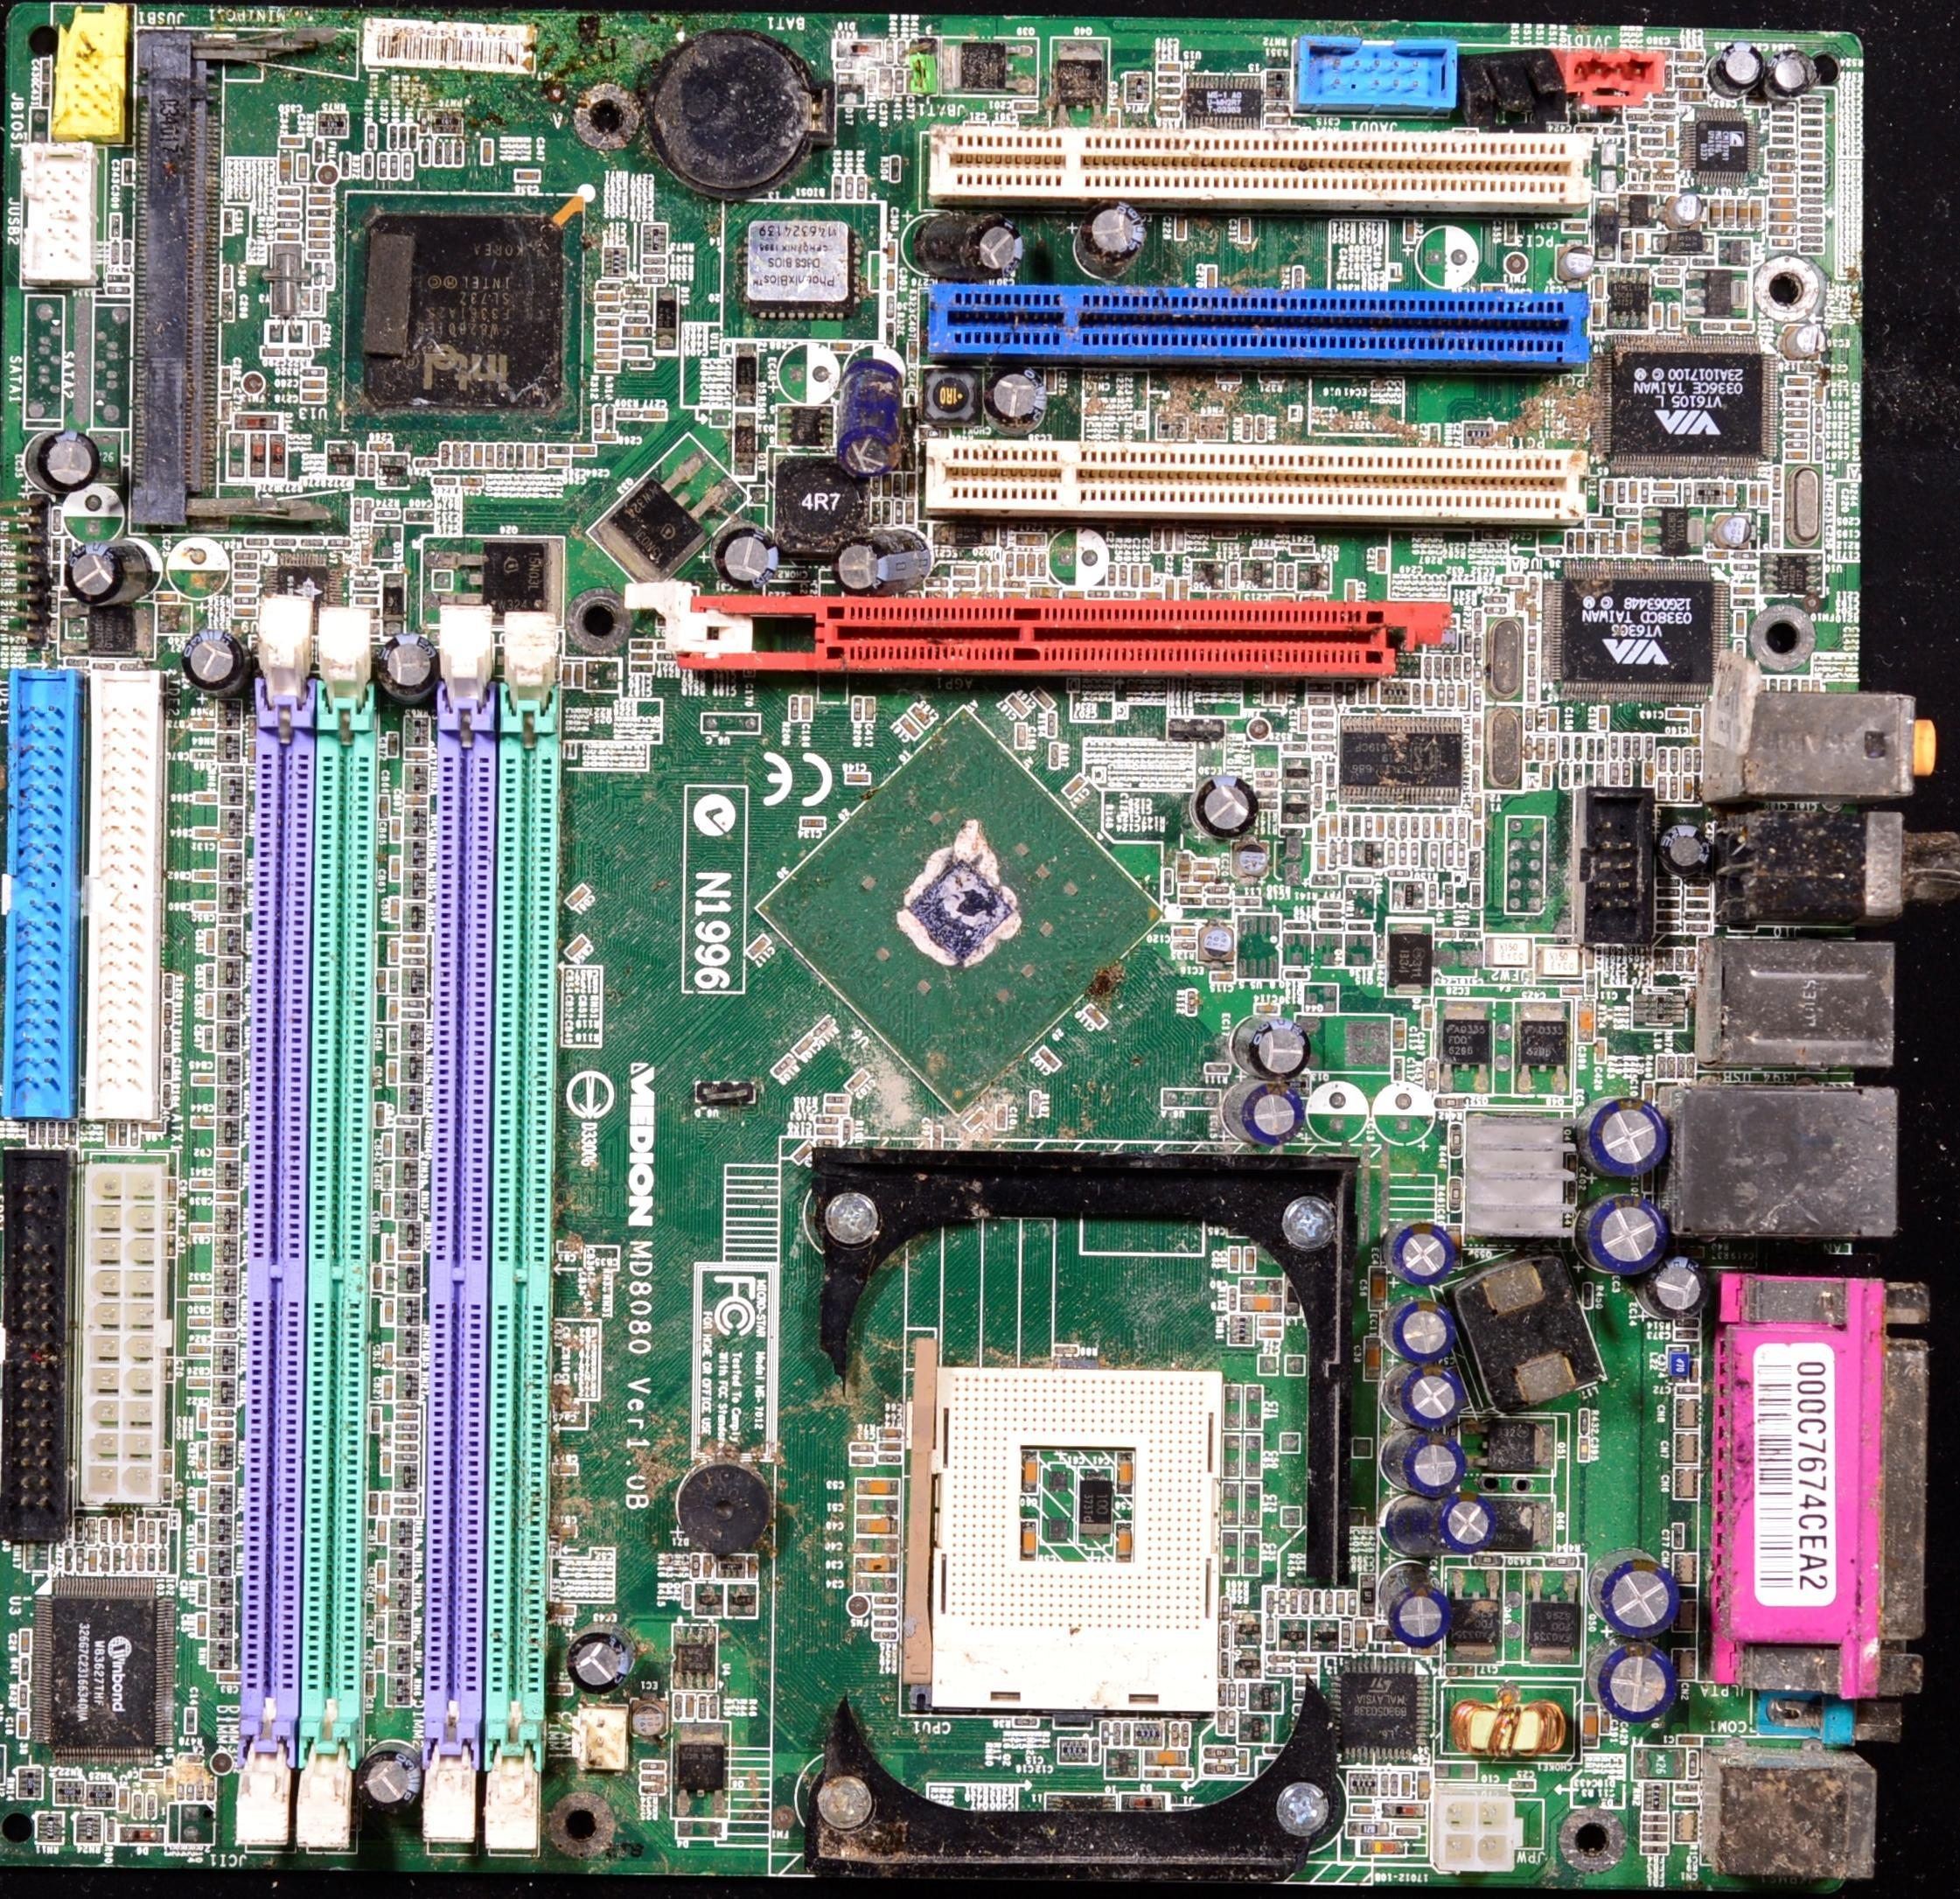Capacitor: (353, 1736, 436, 1829), (1591, 1640, 1676, 1724), (1589, 1188, 1668, 1279), (1076, 182, 1153, 271), (1603, 1559, 1685, 1640), (1589, 1101, 1673, 1178), (1381, 1215, 1458, 1295), (180, 621, 250, 704), (567, 1628, 642, 1701), (1382, 1577, 1458, 1645), (982, 366, 1060, 431), (1249, 1075, 1312, 1155), (30, 431, 103, 495), (964, 210, 1032, 278), (65, 543, 133, 611), (374, 628, 446, 691), (1398, 1432, 1472, 1493), (1440, 1496, 1505, 1565), (1389, 1304, 1454, 1369), (1253, 1019, 1316, 1085), (1643, 1257, 1710, 1316), (1400, 1369, 1461, 1432), (840, 539, 892, 613), (721, 523, 779, 588), (1199, 775, 1258, 833), (843, 424, 905, 480), (1769, 47, 1827, 100), (1710, 40, 1767, 91), (1664, 828, 1713, 877), (1197, 924, 1234, 964), (1232, 840, 1269, 875), (1237, 1292, 1286, 1314), (1115, 1453, 1136, 1496), (1011, 534, 1053, 555), (852, 1517, 899, 1535), (1022, 1454, 1043, 1493), (511, 168, 551, 187), (861, 1481, 899, 1500), (859, 1556, 899, 1573), (299, 375, 332, 394), (182, 1341, 213, 1360), (1118, 1524, 1134, 1563), (565, 935, 583, 966), (182, 1705, 198, 1740), (196, 1489, 212, 1523), (569, 884, 586, 914), (185, 1313, 215, 1330), (366, 1405, 383, 1435), (1769, 194, 1799, 212), (296, 289, 313, 319), (1738, 198, 1753, 229), (1022, 1524, 1034, 1565), (278, 149, 292, 184), (1787, 375, 1815, 392), (471, 443, 486, 473), (1676, 75, 1703, 93), (189, 1071, 217, 1087), (19, 1626, 33, 1657), (276, 198, 304, 214), (310, 215, 341, 229), (299, 390, 327, 406), (798, 698, 814, 726), (378, 795, 394, 823), (191, 868, 222, 882), (1172, 217, 1192, 240), (304, 196, 339, 208), (189, 900, 219, 914), (593, 292, 623, 306), (1139, 564, 1153, 593), (385, 940, 401, 966), (381, 1300, 397, 1327), (185, 1376, 212, 1391), (276, 133, 303, 149), (595, 327, 621, 343), (595, 429, 621, 445), (108, 1519, 122, 1547), (98, 1519, 112, 1547), (196, 1440, 208, 1472), (17, 1712, 30, 1743), (649, 410, 674, 425), (388, 852, 401, 884), (189, 1222, 215, 1236), (381, 1446, 394, 1475), (481, 137, 493, 166), (304, 242, 334, 254), (952, 562, 975, 578), (145, 1789, 156, 1822), (374, 1099, 387, 1127), (1769, 161, 1797, 173), (1771, 173, 1795, 187), (131, 1794, 143, 1822), (276, 229, 301, 243), (1162, 527, 1174, 555), (1235, 221, 1251, 242), (1675, 53, 1706, 63), (1682, 89, 1708, 102), (381, 1134, 394, 1160), (381, 1166, 394, 1192), (1258, 1316, 1284, 1328), (374, 1593, 387, 1619), (1174, 527, 1186, 553), (978, 562, 990, 588), (462, 476, 485, 490), (569, 445, 598, 455), (1204, 264, 1216, 289), (1375, 550, 1388, 574), (194, 791, 219, 803), (140, 1124, 168, 1134), (1801, 151, 1829, 161), (373, 1647, 383, 1675), (1498, 422, 1508, 450), (387, 999, 399, 1022), (196, 1409, 208, 1432), (388, 1061, 399, 1087), (385, 1236, 394, 1267), (383, 1342, 394, 1369), (1664, 124, 1675, 151), (850, 1444, 877, 1454), (625, 327, 651, 338), (527, 446, 537, 473), (1155, 525, 1164, 557), (1157, 65, 1183, 75), (187, 1286, 217, 1295), (381, 1489, 390, 1519), (306, 231, 336, 240), (129, 1122, 140, 1146), (213, 1194, 238, 1204), (213, 1419, 238, 1430), (703, 1556, 714, 1580), (1773, 214, 1797, 224), (1771, 226, 1795, 236), (1732, 586, 1757, 597), (198, 1547, 206, 1575), (378, 1559, 387, 1587), (196, 1614, 205, 1642), (1347, 583, 1361, 600), (192, 719, 215, 730), (192, 828, 215, 838), (107, 1122, 115, 1148), (1626, 114, 1652, 123), (91, 1549, 100, 1575), (383, 1376, 390, 1407), (1027, 555, 1038, 576), (206, 996, 215, 1020), (880, 1430, 903, 1439), (210, 1432, 233, 1440), (402, 936, 430, 943), (168, 1766, 175, 1794), (119, 1789, 126, 1817), (747, 1559, 756, 1580), (217, 1152, 241, 1159), (880, 1444, 905, 1451), (126, 1547, 133, 1570), (394, 894, 399, 924), (210, 1411, 234, 1416), (378, 1521, 383, 1542), (1008, 557, 1013, 578)
Connector: (1734, 1267, 1953, 1701), (1673, 1076, 1906, 1241), (86, 681, 161, 1124), (9, 669, 75, 1113), (0, 1152, 68, 1551), (1718, 816, 1956, 926), (84, 1159, 157, 1514), (1703, 950, 1904, 1073), (1701, 1762, 1899, 1883), (1729, 698, 1925, 793), (21, 144, 108, 296), (58, 4, 128, 149)
IC: (359, 214, 579, 401), (44, 1580, 170, 1757), (1613, 354, 1766, 462), (1563, 581, 1710, 684), (1342, 719, 1465, 805), (479, 543, 558, 609), (675, 1734, 738, 1794), (1692, 117, 1748, 175), (1185, 84, 1265, 121), (675, 1642, 712, 1682), (1081, 1477, 1111, 1524), (1612, 280, 1654, 310), (1564, 247, 1598, 280), (1671, 229, 1708, 256), (331, 441, 359, 473), (1599, 212, 1622, 247), (1631, 194, 1650, 228)
Resistor: (654, 287, 677, 348), (1167, 719, 1225, 742), (586, 660, 626, 691), (1295, 560, 1330, 593), (318, 110, 352, 144), (1197, 557, 1228, 590), (644, 221, 672, 257), (383, 1675, 413, 1708), (1466, 420, 1500, 450), (213, 1201, 241, 1236), (1244, 560, 1270, 597), (392, 1125, 422, 1157), (429, 105, 460, 135), (75, 1813, 105, 1845), (402, 719, 432, 751), (395, 1262, 423, 1295), (696, 1587, 724, 1621), (17, 1766, 45, 1799), (381, 453, 408, 488), (213, 1295, 240, 1328), (604, 243, 630, 277), (210, 1440, 238, 1470), (395, 1463, 422, 1495), (208, 1577, 234, 1608), (1125, 74, 1150, 107), (390, 1579, 413, 1614), (399, 1223, 425, 1253), (213, 1237, 240, 1267), (210, 1643, 236, 1673), (87, 1782, 114, 1811), (215, 1024, 240, 1055), (215, 1057, 240, 1089), (213, 1269, 238, 1300), (210, 1482, 234, 1514), (387, 1612, 411, 1643), (390, 1645, 415, 1677), (38, 1811, 63, 1843), (219, 852, 241, 886), (215, 1122, 243, 1148), (394, 1188, 420, 1216), (219, 957, 243, 987), (399, 1054, 423, 1083), (397, 1295, 422, 1325), (1381, 679, 1410, 704), (219, 809, 243, 838), (52, 1782, 84, 1804), (406, 807, 429, 838), (399, 1370, 420, 1404), (390, 1549, 411, 1582), (210, 1516, 234, 1544), (402, 901, 425, 931), (219, 700, 241, 730), (402, 840, 425, 870), (408, 870, 429, 901), (402, 966, 423, 998), (219, 989, 240, 1020), (215, 887, 240, 914), (213, 1377, 238, 1404), (730, 1589, 754, 1615), (212, 1612, 236, 1638), (402, 1024, 425, 1052), (399, 1085, 422, 1113), (213, 1344, 236, 1372), (210, 1547, 233, 1575), (408, 767, 429, 796), (217, 928, 240, 954), (219, 737, 241, 763), (219, 1087, 238, 1117), (217, 1162, 236, 1192), (392, 1517, 411, 1547), (222, 777, 240, 807), (399, 1334, 418, 1360), (1155, 417, 1176, 439), (1769, 100, 1799, 114), (399, 1162, 415, 1188), (1771, 145, 1795, 161), (1657, 898, 1683, 912), (362, 152, 374, 182), (1622, 730, 1633, 763), (1657, 921, 1682, 935), (1802, 105, 1830, 117), (72, 1516, 84, 1544), (402, 1006, 423, 1022), (1300, 698, 1332, 709), (789, 693, 800, 725), (402, 999, 429, 1012), (850, 1458, 875, 1470), (19, 1659, 31, 1684), (338, 151, 348, 179), (1610, 733, 1620, 761), (1584, 735, 1594, 763), (163, 1061, 175, 1083), (721, 1561, 744, 1573), (1685, 914, 1711, 924), (1659, 1055, 1669, 1082), (366, 123, 376, 149), (684, 1582, 693, 1612), (434, 140, 444, 165), (65, 1549, 75, 1573), (1732, 597, 1757, 607), (1437, 686, 1449, 707), (164, 1029, 173, 1057), (1773, 116, 1801, 124), (1689, 900, 1711, 910), (1689, 924, 1711, 935), (1668, 1055, 1678, 1078), (1678, 1057, 1689, 1080), (395, 1442, 418, 1453), (878, 1453, 901, 1463), (159, 1521, 170, 1544), (691, 1556, 702, 1579), (401, 156, 411, 179), (1802, 175, 1825, 186), (1447, 684, 1458, 707), (1561, 733, 1571, 756), (1573, 765, 1584, 788), (1414, 684, 1426, 704), (411, 124, 418, 158), (446, 138, 455, 165), (380, 154, 388, 180), (19, 1684, 28, 1710), (1559, 765, 1568, 791), (164, 1005, 175, 1026), (401, 121, 408, 152), (1808, 119, 1825, 131), (388, 128, 397, 152), (394, 1425, 418, 1433), (1799, 165, 1823, 173), (1655, 100, 1675, 110), (1690, 1059, 1701, 1078), (402, 957, 425, 966), (147, 1549, 156, 1572), (159, 1549, 168, 1572), (1426, 656, 1435, 679), (1732, 553, 1760, 560), (1774, 126, 1795, 135), (390, 156, 399, 177), (1732, 565, 1759, 572), (1657, 915, 1682, 922), (166, 973, 173, 998), (1773, 137, 1797, 144), (1158, 79, 1183, 86), (404, 947, 423, 956), (1643, 126, 1662, 135), (1599, 742, 1608, 761), (1550, 739, 1557, 761), (121, 1125, 128, 1146), (1802, 130, 1823, 137), (1158, 88, 1178, 95), (395, 1435, 420, 1440), (1636, 735, 1641, 760), (136, 1519, 142, 1542), (1690, 1055, 1692, 1057)
Transistor: (1431, 992, 1498, 1097), (1510, 999, 1577, 1097)
